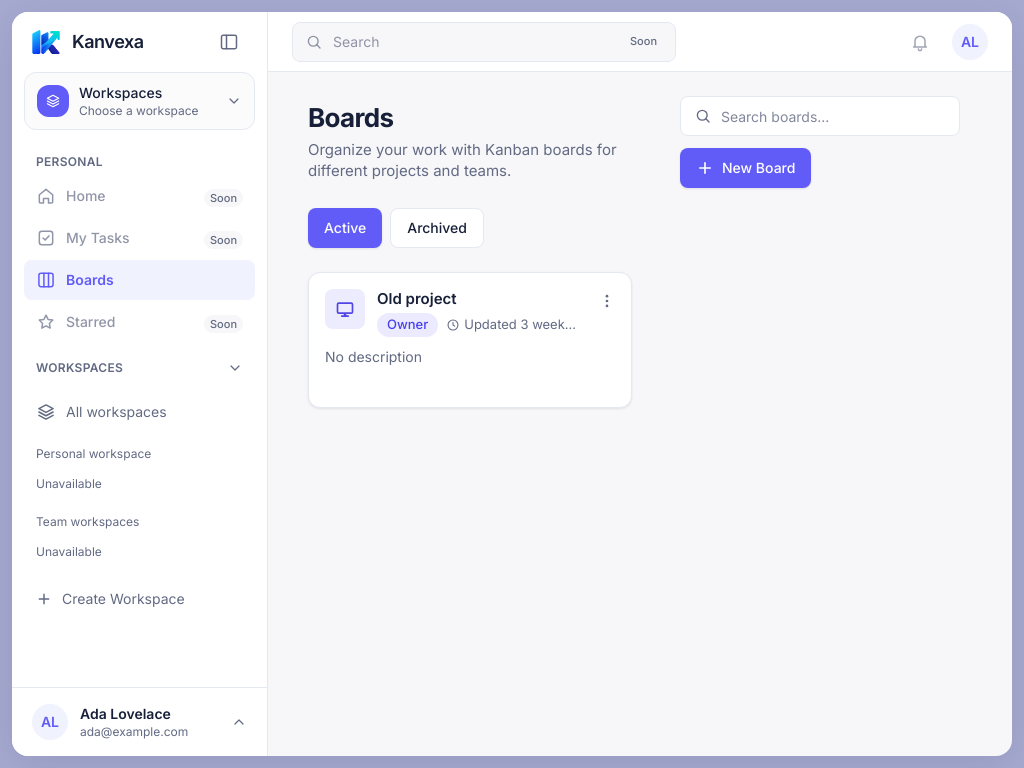
Scenario: edit and archive board › archives only after confirmation
The width and height of the screenshot is (1024, 768).
Click the button named "Actions for Old project". click: (607, 301)
box: 591,285 -> 623,317
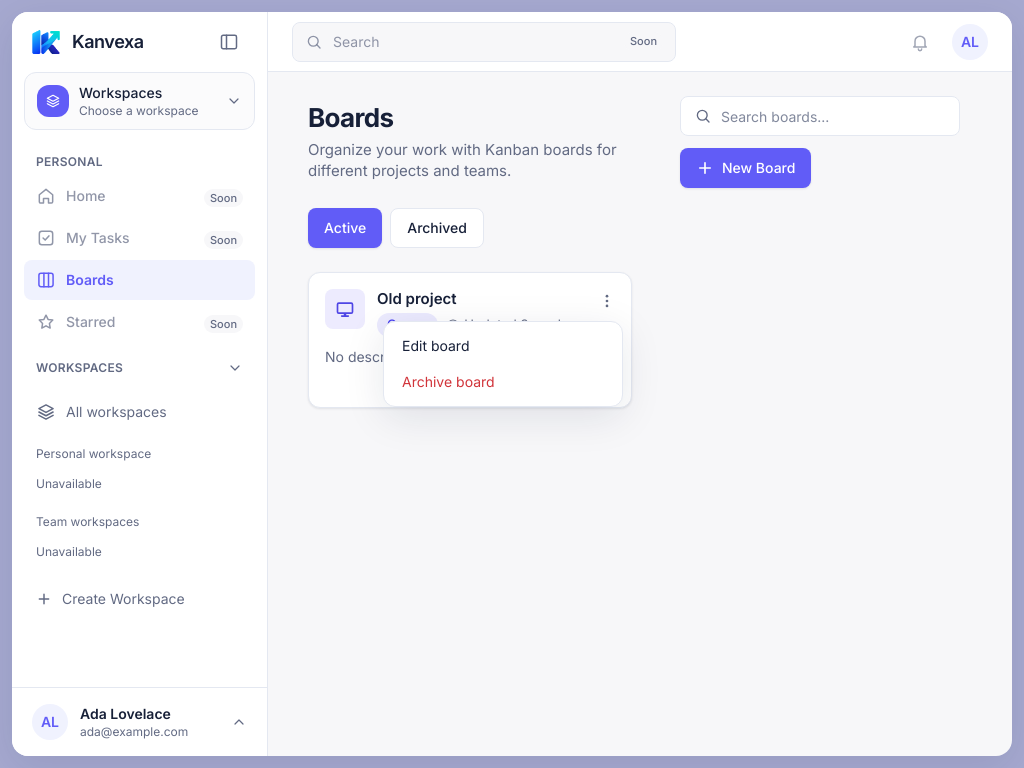
Click the button "Archive board". click: (503, 382)
box: 390,364 -> 616,400
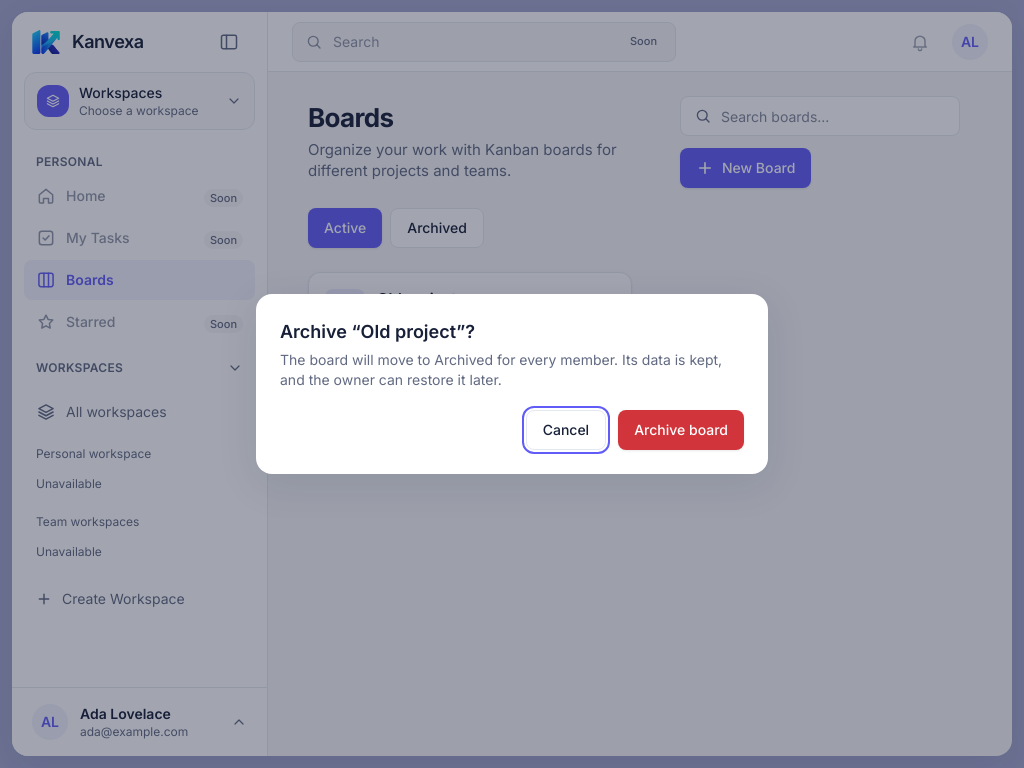
Click the button "Cancel". click: (566, 430)
box: 526,410 -> 606,450
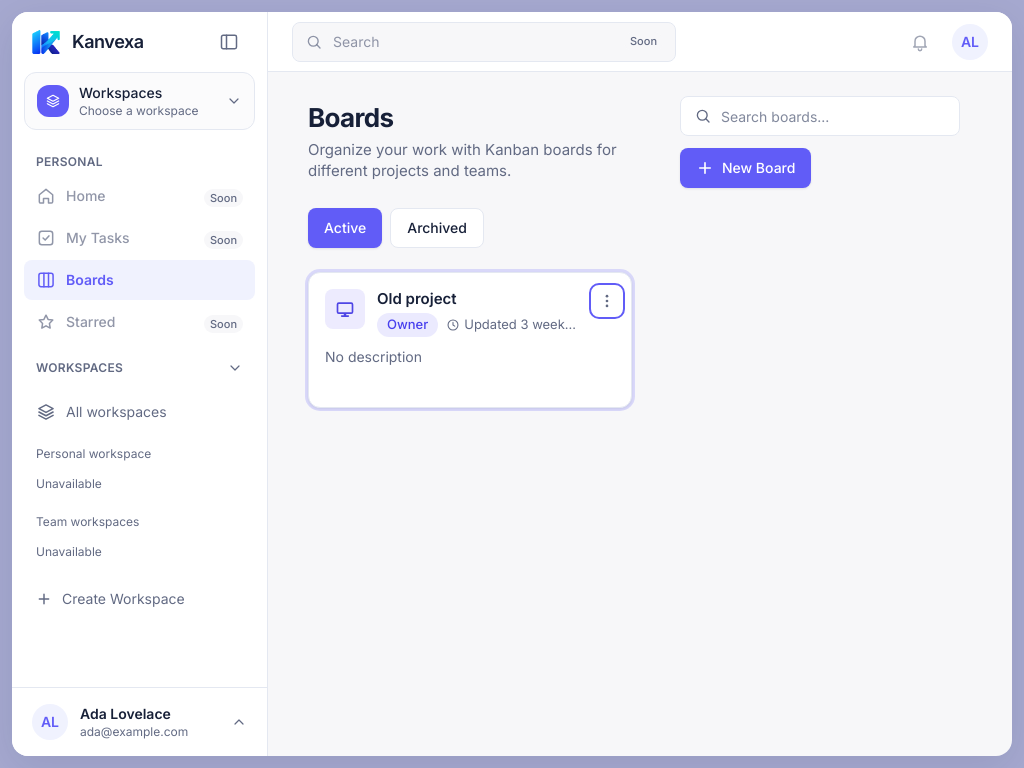
Expected: the dialog is gone
Click the button named "Actions for Old project". click: (607, 301)
box: 591,285 -> 623,317
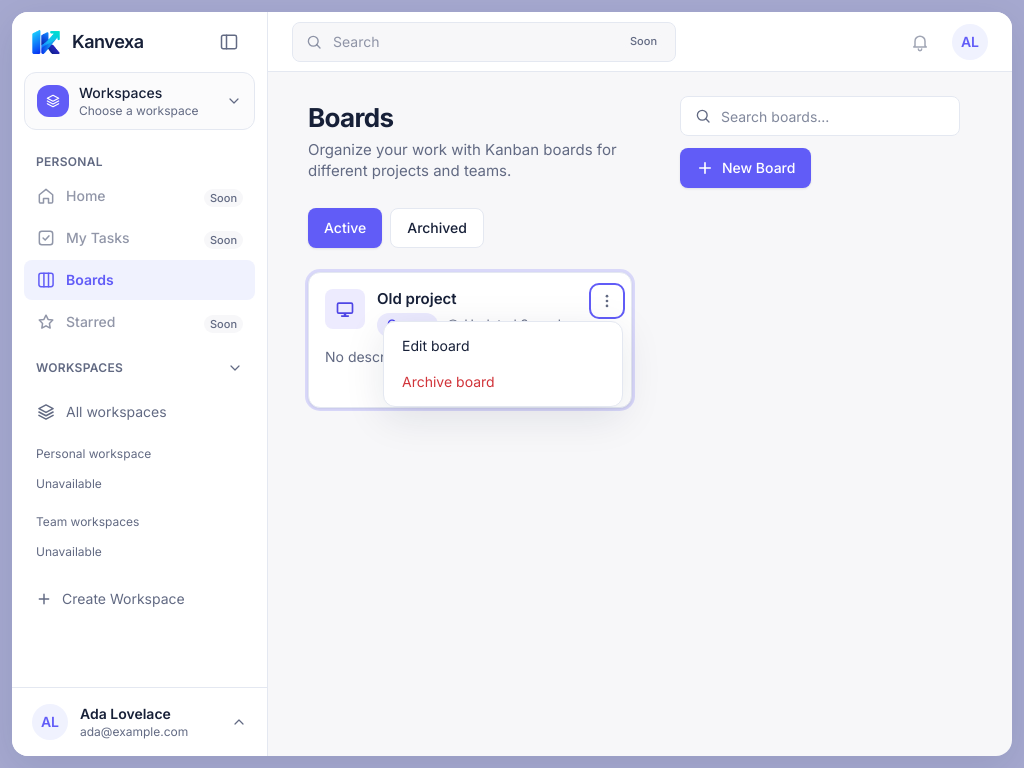
Click the button "Archive board". click: (503, 382)
box: 390,364 -> 616,400
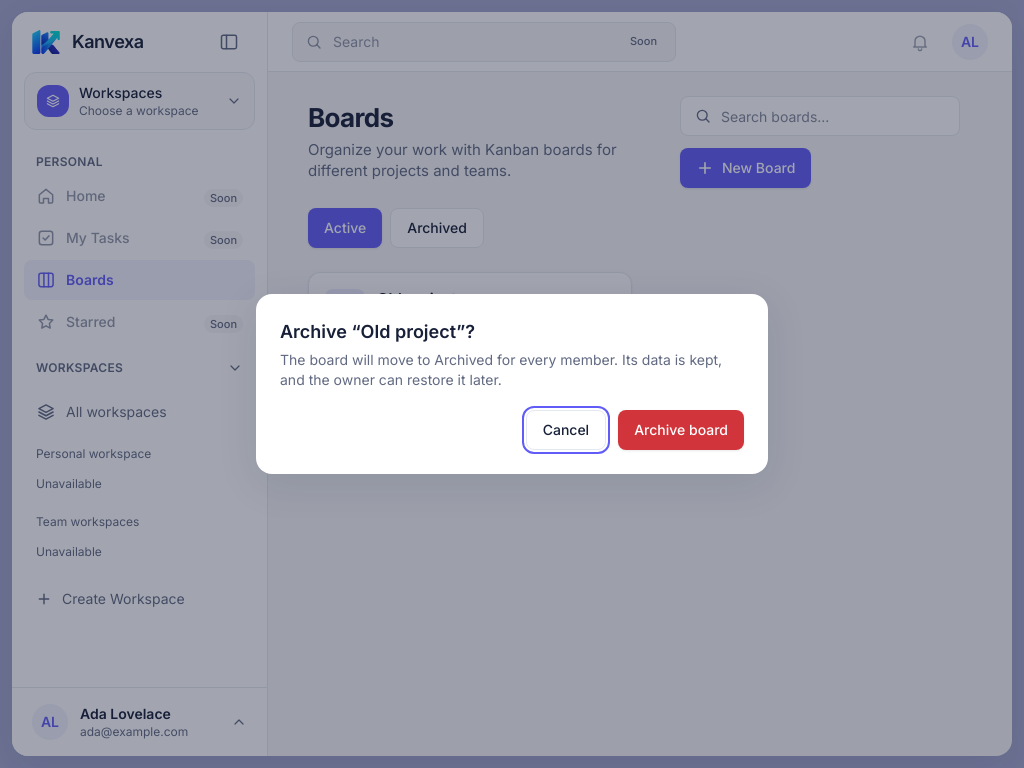
Click the button "Archive board". click: (681, 430)
box: 618,410 -> 744,450
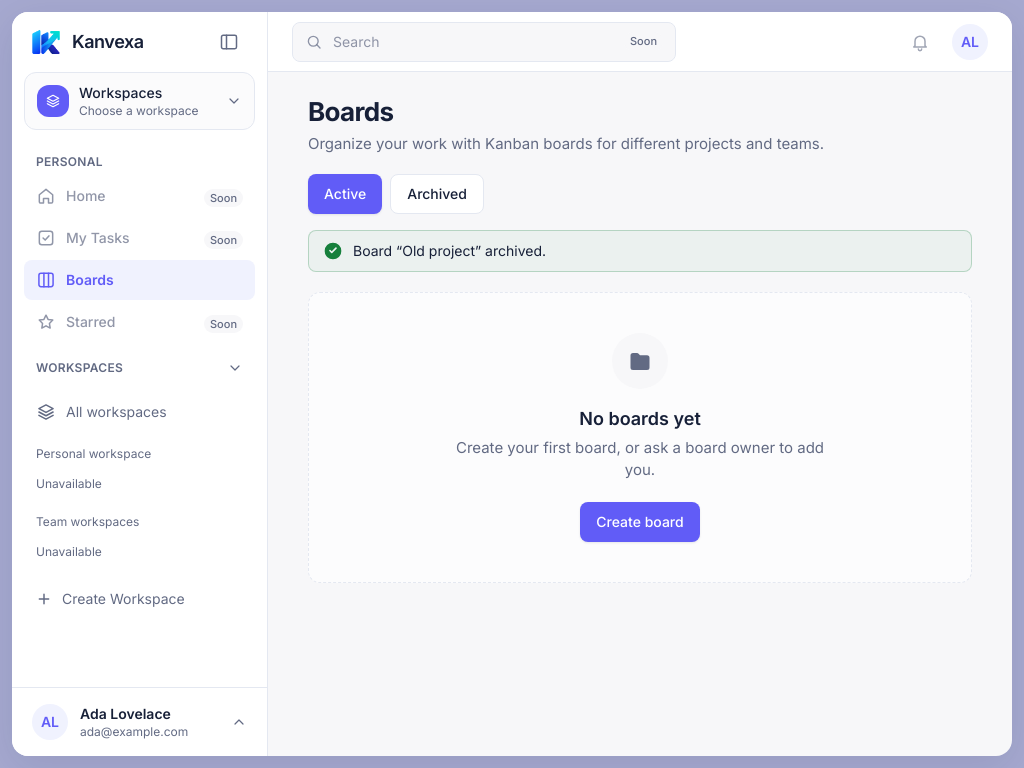
Expected: the message reads "Board “Old project” archived.", 353,242 -> 546,259
